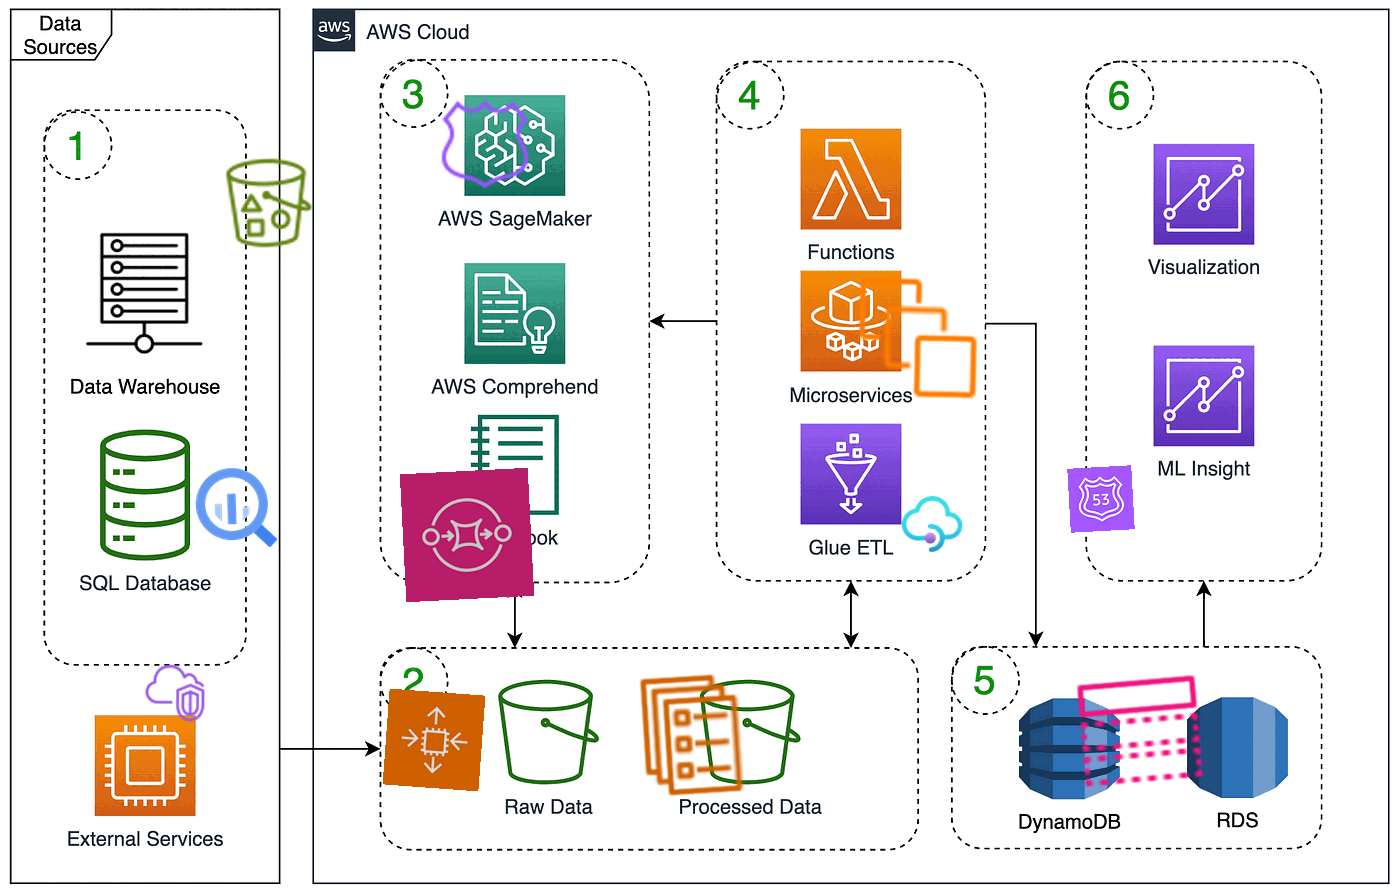aws_amazon_ec2_auto_scaling: (382, 688, 486, 792)
aws_amazon_route_53: (1067, 465, 1135, 533)
aws_amazon_simple_queue_service: (399, 467, 535, 603)
aws_ec2_instances: (852, 272, 984, 404)
aws_elastic_container_service_service: (624, 667, 760, 803)
aws_route_53_hosted_zone: (437, 95, 535, 193)
aws_simple_notification_service_topic: (1070, 661, 1210, 801)
aws_simple_storage_service_bucket_with_objects: (219, 153, 319, 253)
aws_vpc_virtual_private_cloud_vpc: (142, 660, 208, 726)
azure_api_management_services: (898, 490, 966, 558)
gcp_bigquery: (186, 458, 286, 558)
